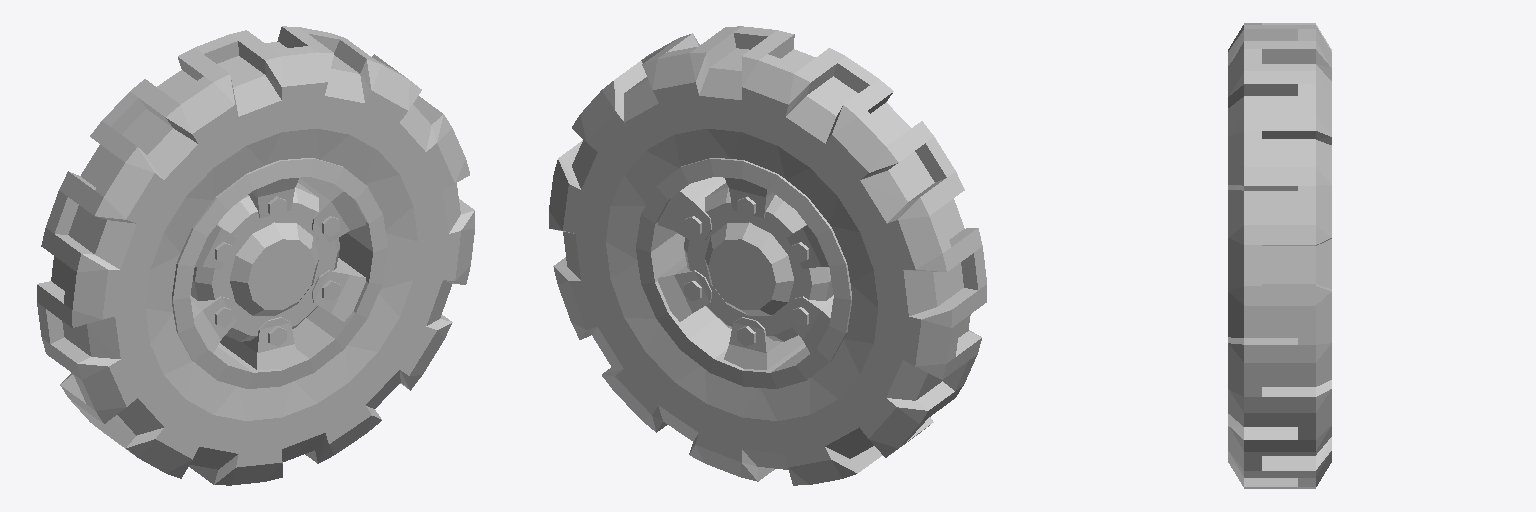
Rendered from obj_interactive_fant_offroad_wheel_9.obj.
3 views of the same model, side by side, from view 1: azimuth 30°, elevation 25°; view 2: azimuth 150°, elevation 25°; view 3: azimuth 270°, elevation 25° (orthographic).
Parts seen in each view (by area): view 1: obj_interactive_fant_offroad_wheel_9_Mesh; view 2: obj_interactive_fant_offroad_wheel_9_Mesh; view 3: obj_interactive_fant_offroad_wheel_9_Mesh.
Boxes of the visible parts, x1=… form: obj_interactive_fant_offroad_wheel_9_Mesh: x1=37, y1=26, x2=474, y2=485; obj_interactive_fant_offroad_wheel_9_Mesh: x1=549, y1=26, x2=986, y2=485; obj_interactive_fant_offroad_wheel_9_Mesh: x1=1228, y1=23, x2=1331, y2=488.
Size of the model in its own units: 9 by 9 by 2.